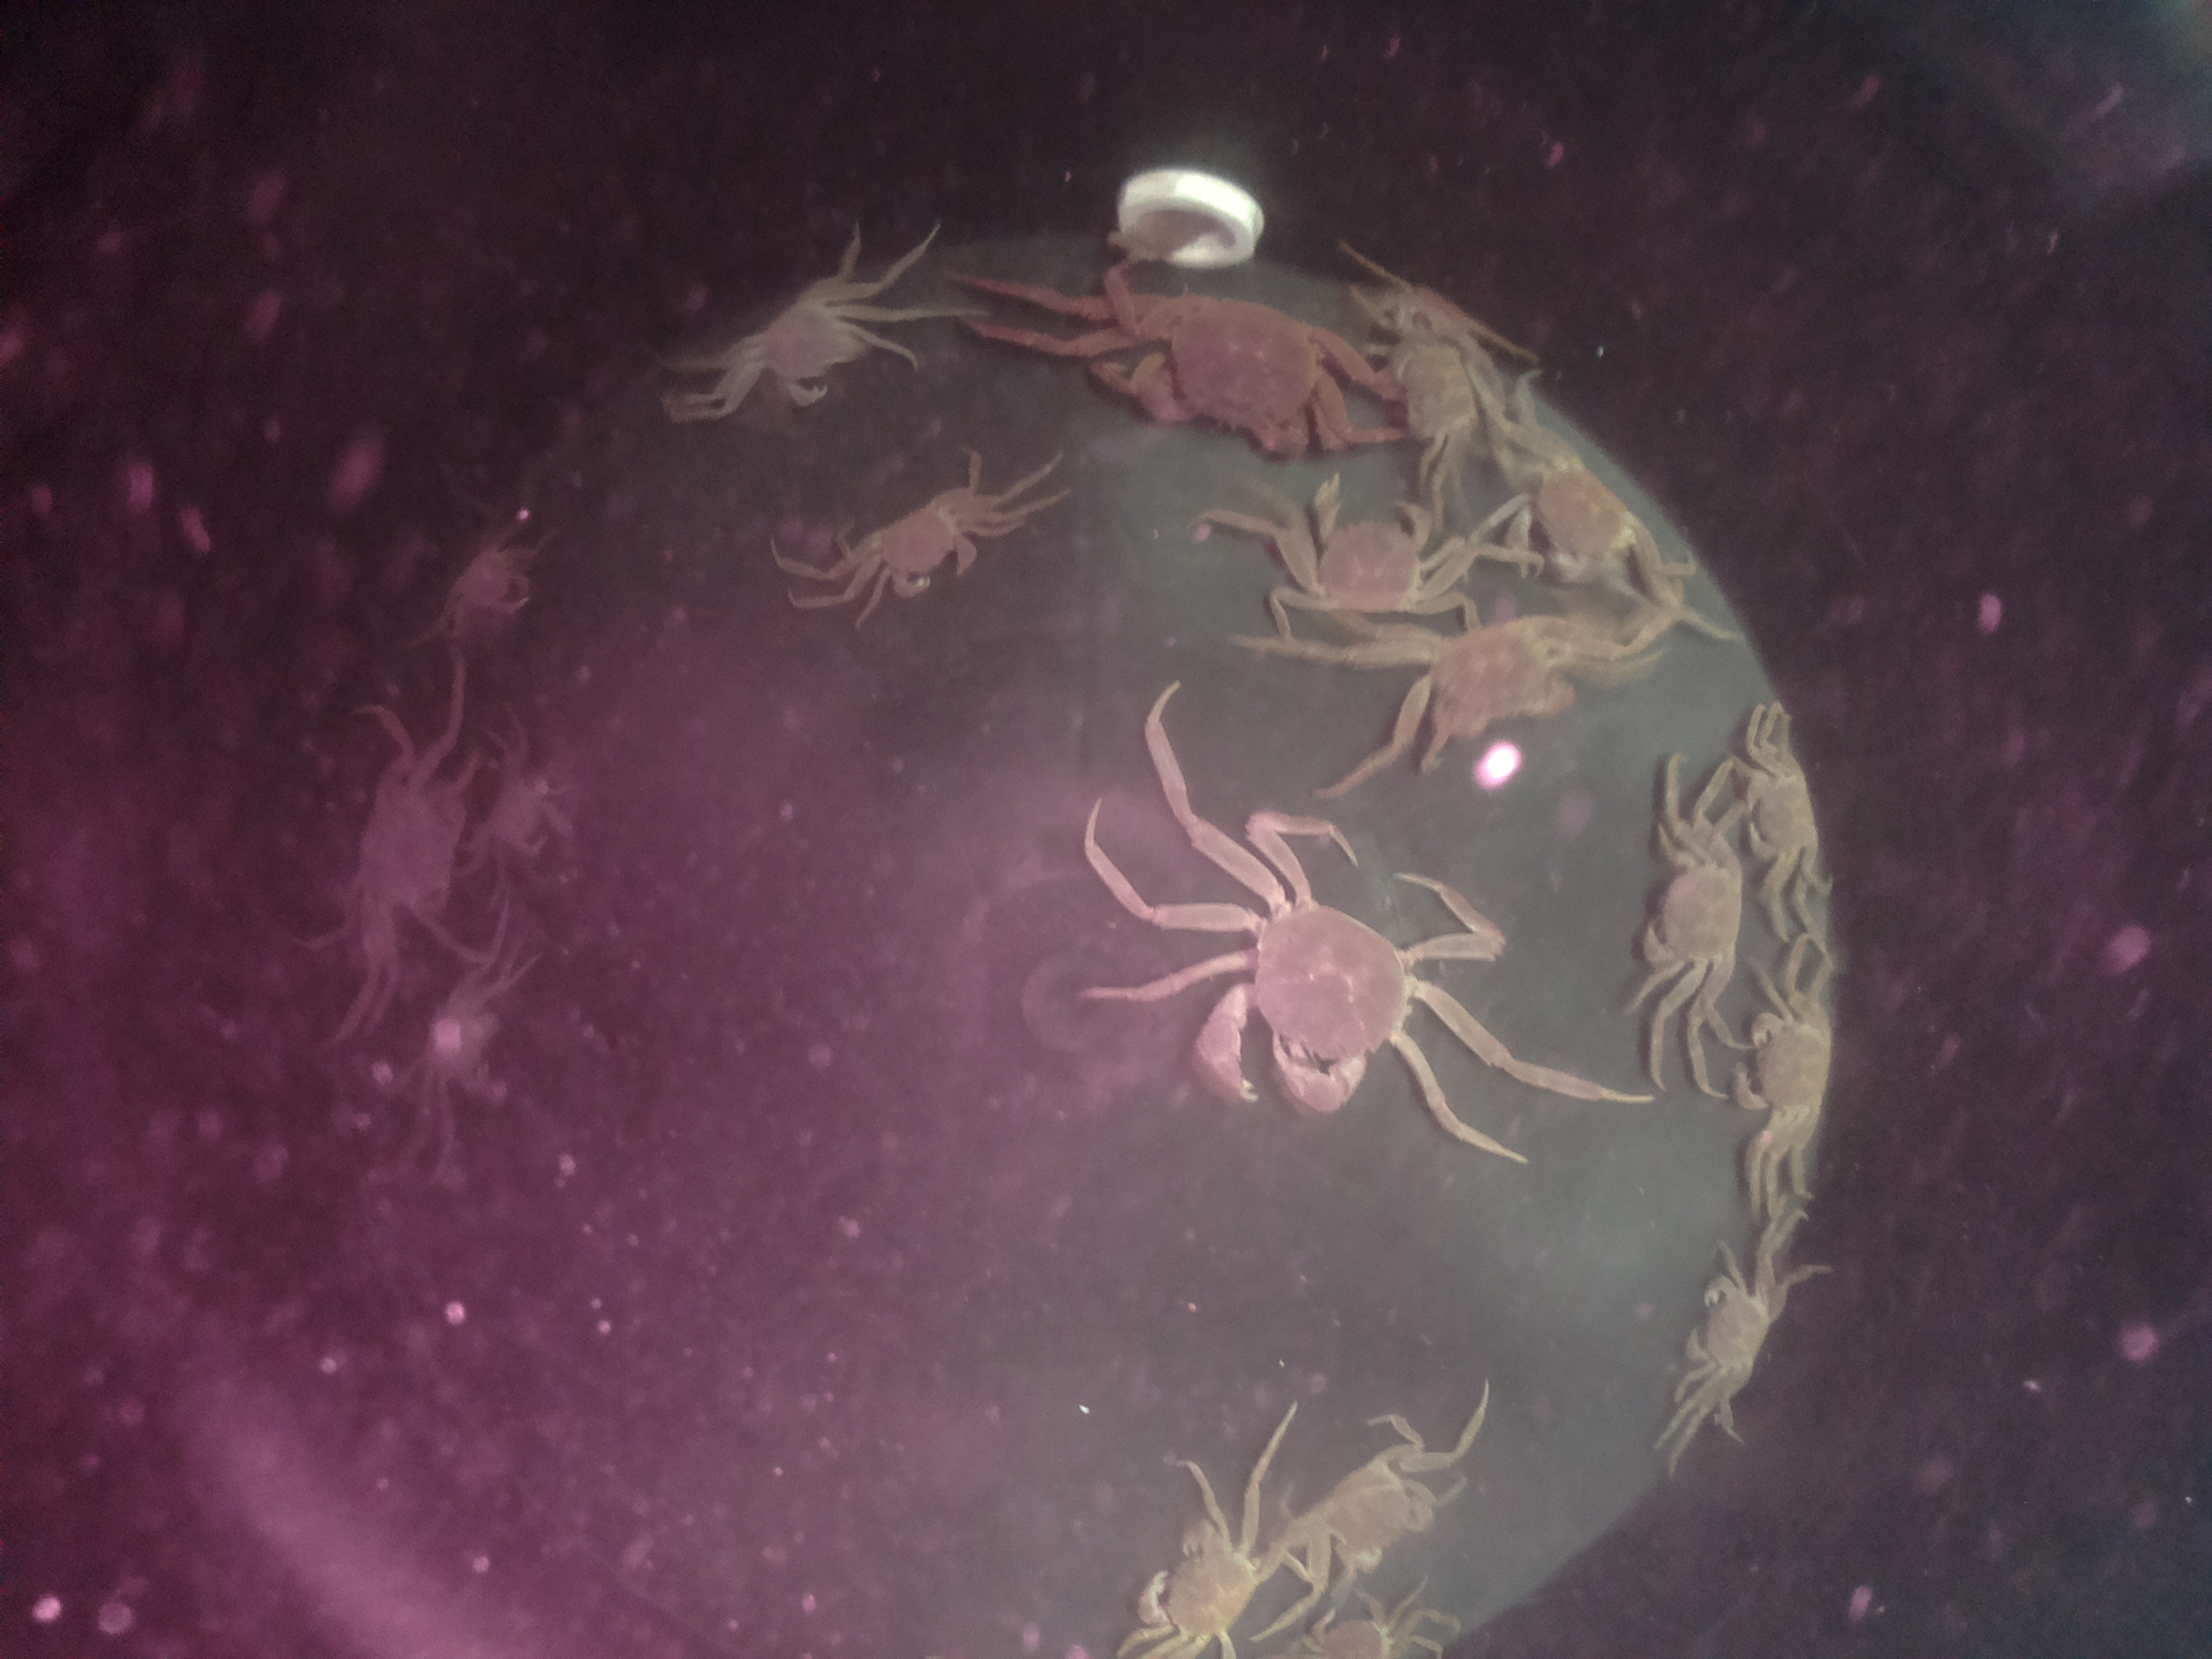Crab: (1172, 873, 1437, 1131), (1082, 279, 1355, 465), (1726, 965, 1874, 1155), (718, 270, 902, 420), (1113, 1502, 1282, 1659), (812, 476, 1001, 615), (1266, 472, 1446, 617), (1663, 1244, 1787, 1439), (1618, 826, 1750, 997), (1717, 732, 1851, 890)
